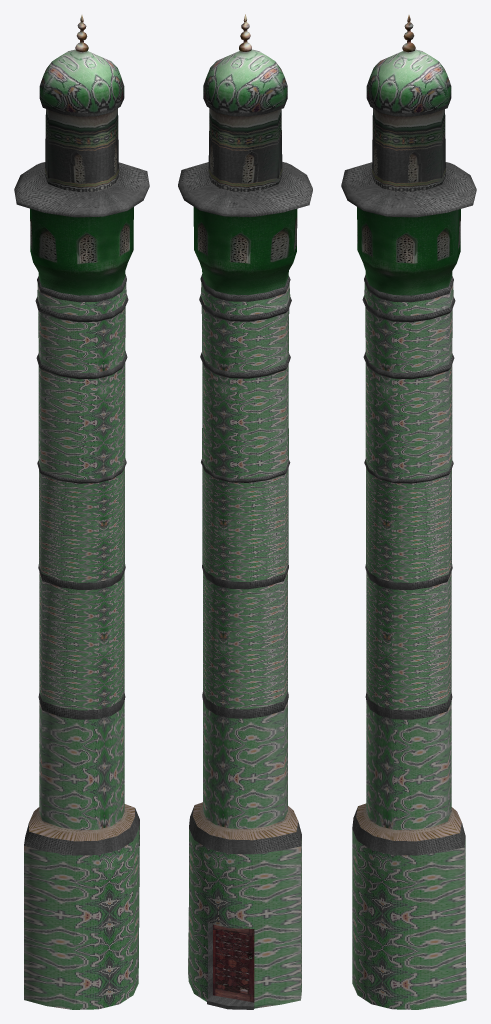
File: building15_alt.obj
3 views of the same model, side by side, from view 1: azimuth 30°, elevation 25°; view 2: azimuth 150°, elevation 25°; view 3: azimuth 330°, elevation 25° (orthographic).
Parts seen in each view (by area): view 1: building15; view 2: building15; view 3: building15.
Boxes of the visible parts, bbox=[...] form: building15: bbox=[14, 15, 149, 1009]; building15: bbox=[178, 14, 312, 1009]; building15: bbox=[341, 15, 476, 1009].
Size of the model in its own units: 144 by 1032 by 129.
